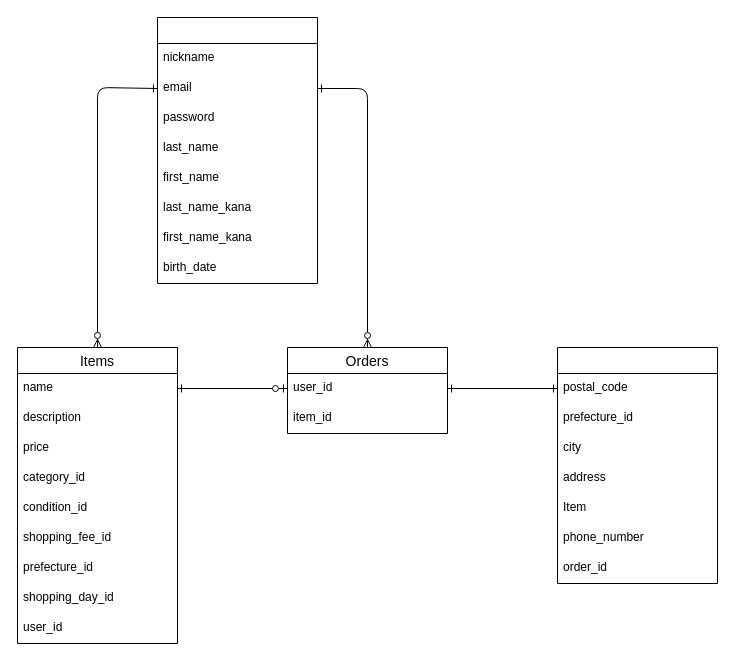
Image size: 735x664. Some labels were removed from this diagram. Here are the shapes that lost their labels. From the top down, the box of each, then its label:
(156, 16, 318, 284): Users
(556, 346, 718, 584): Addresses
